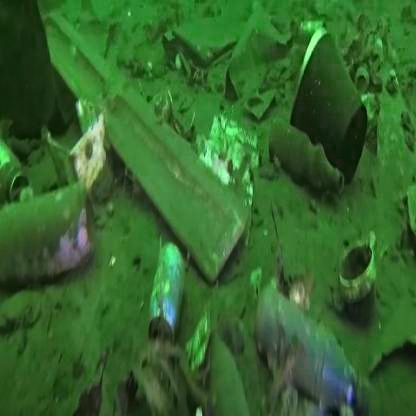can: (147, 226, 196, 351)
gbottle: (260, 116, 358, 224)
pbottle: (238, 294, 383, 416)
plastic: (302, 24, 373, 195)
